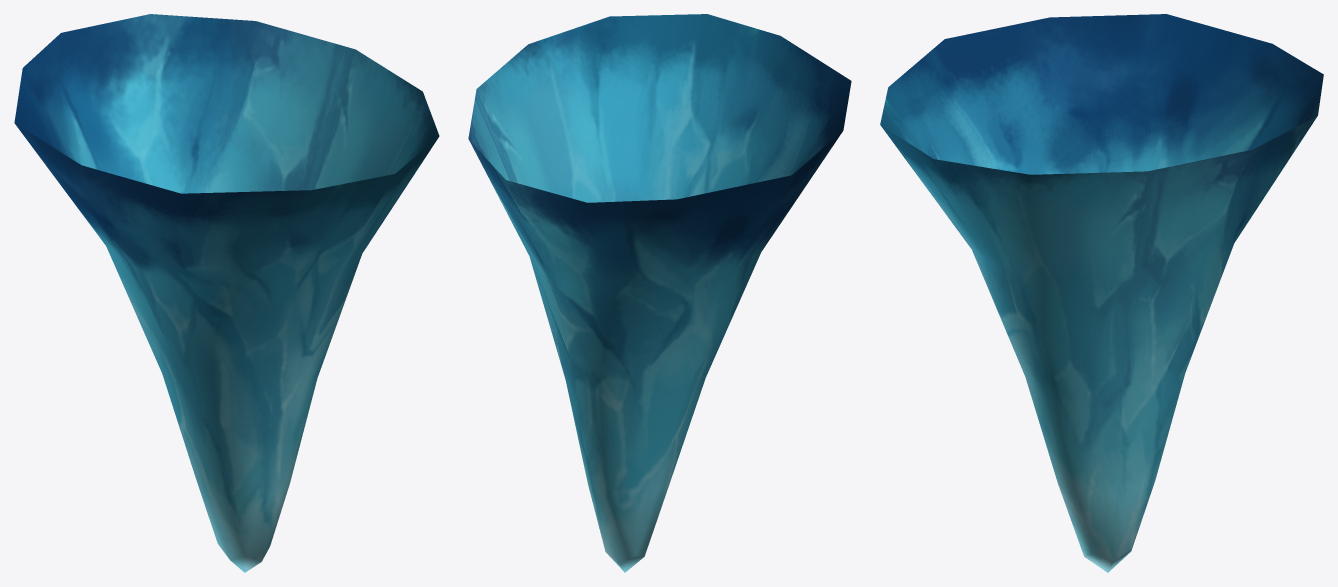
The model's file is BingYingZhong_Bing_7.fbx.
3 renders of one model, left to right at view 1: azimuth 30°, elevation 25°; view 2: azimuth 150°, elevation 25°; view 3: azimuth 270°, elevation 25°, orthographic. The views are drawn at different scales.
Visible parts, largest first — view 1: BingYingZhong_Bing_7; view 2: BingYingZhong_Bing_7; view 3: BingYingZhong_Bing_7.
Part boxes in pixels (box(x1,y1,x2,y2)): BingYingZhong_Bing_7: box(14, 14, 439, 572); BingYingZhong_Bing_7: box(468, 14, 851, 572); BingYingZhong_Bing_7: box(880, 14, 1323, 572).
Size of the model in its own units: 234 by 315 by 273.
